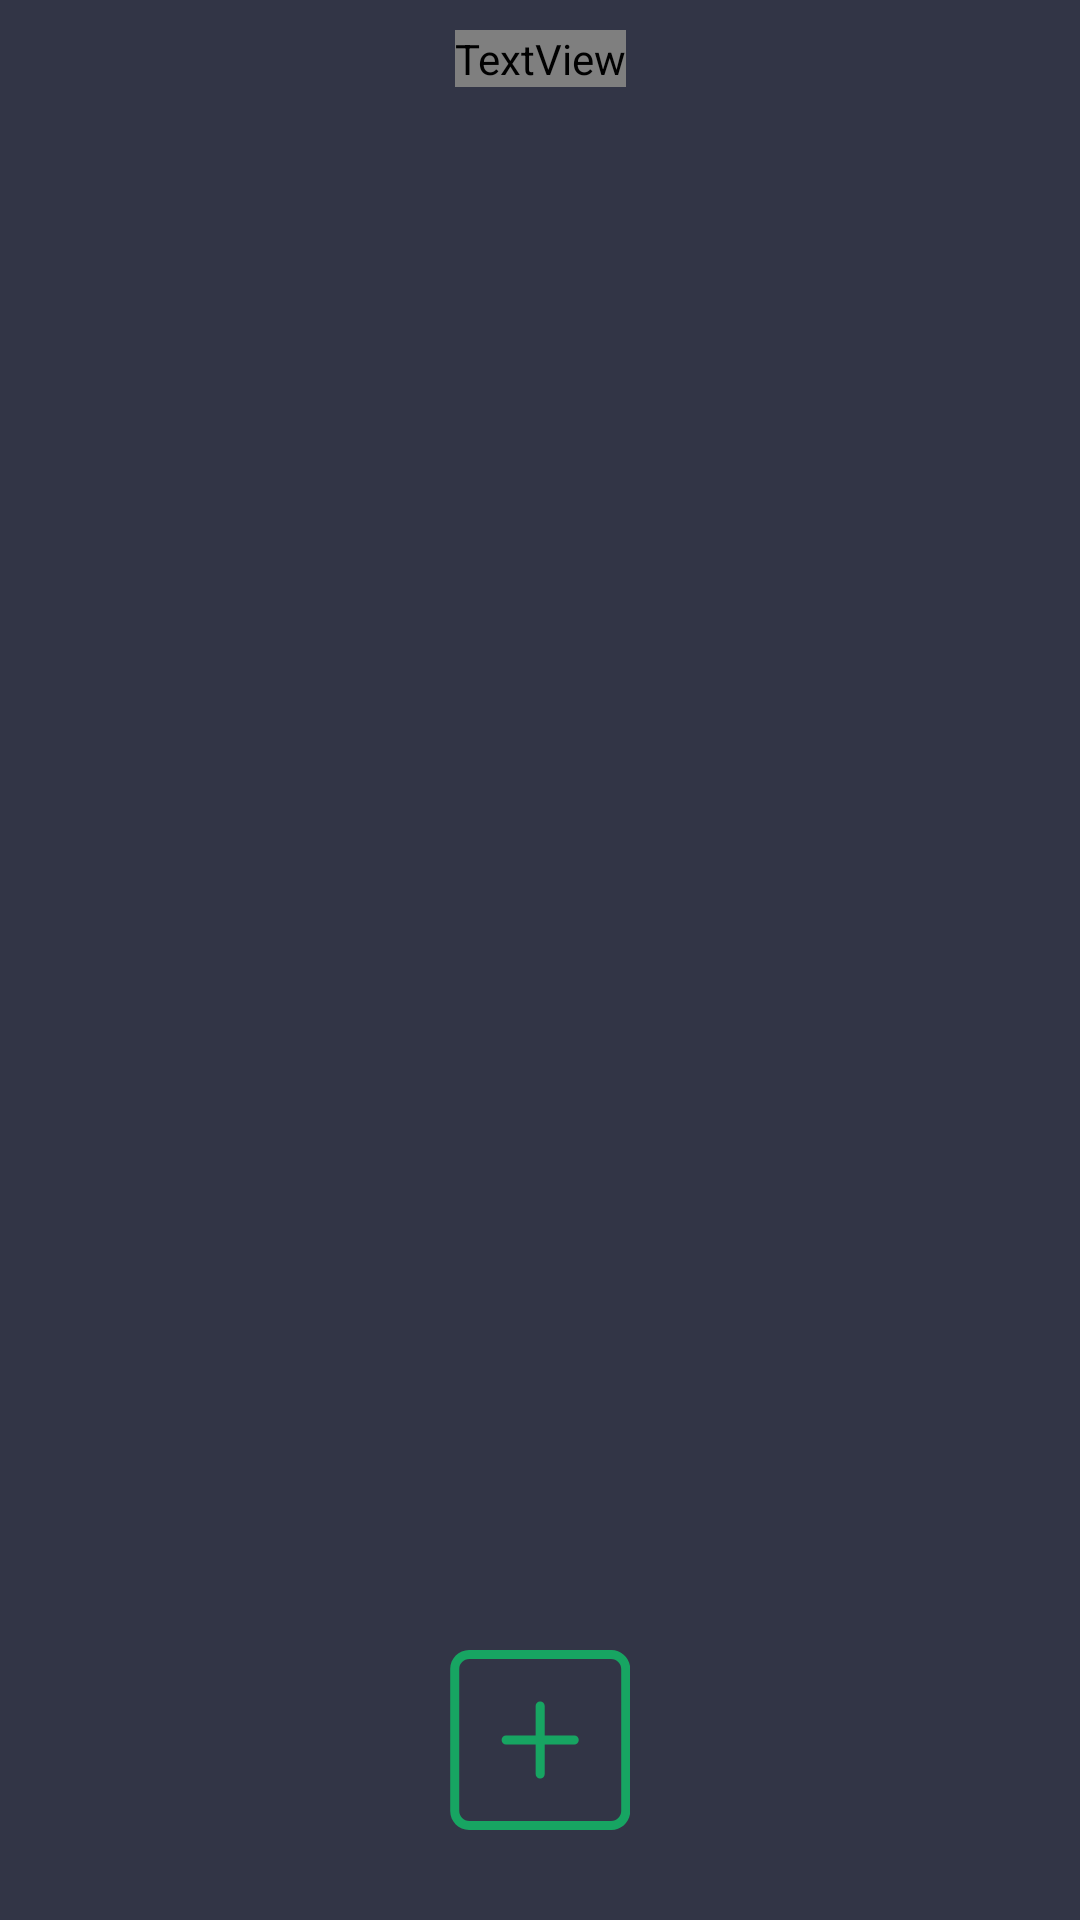

Icon click points for this 1080 × 1920 phone screenshot, format (x,y):
plus: (540,1740)
